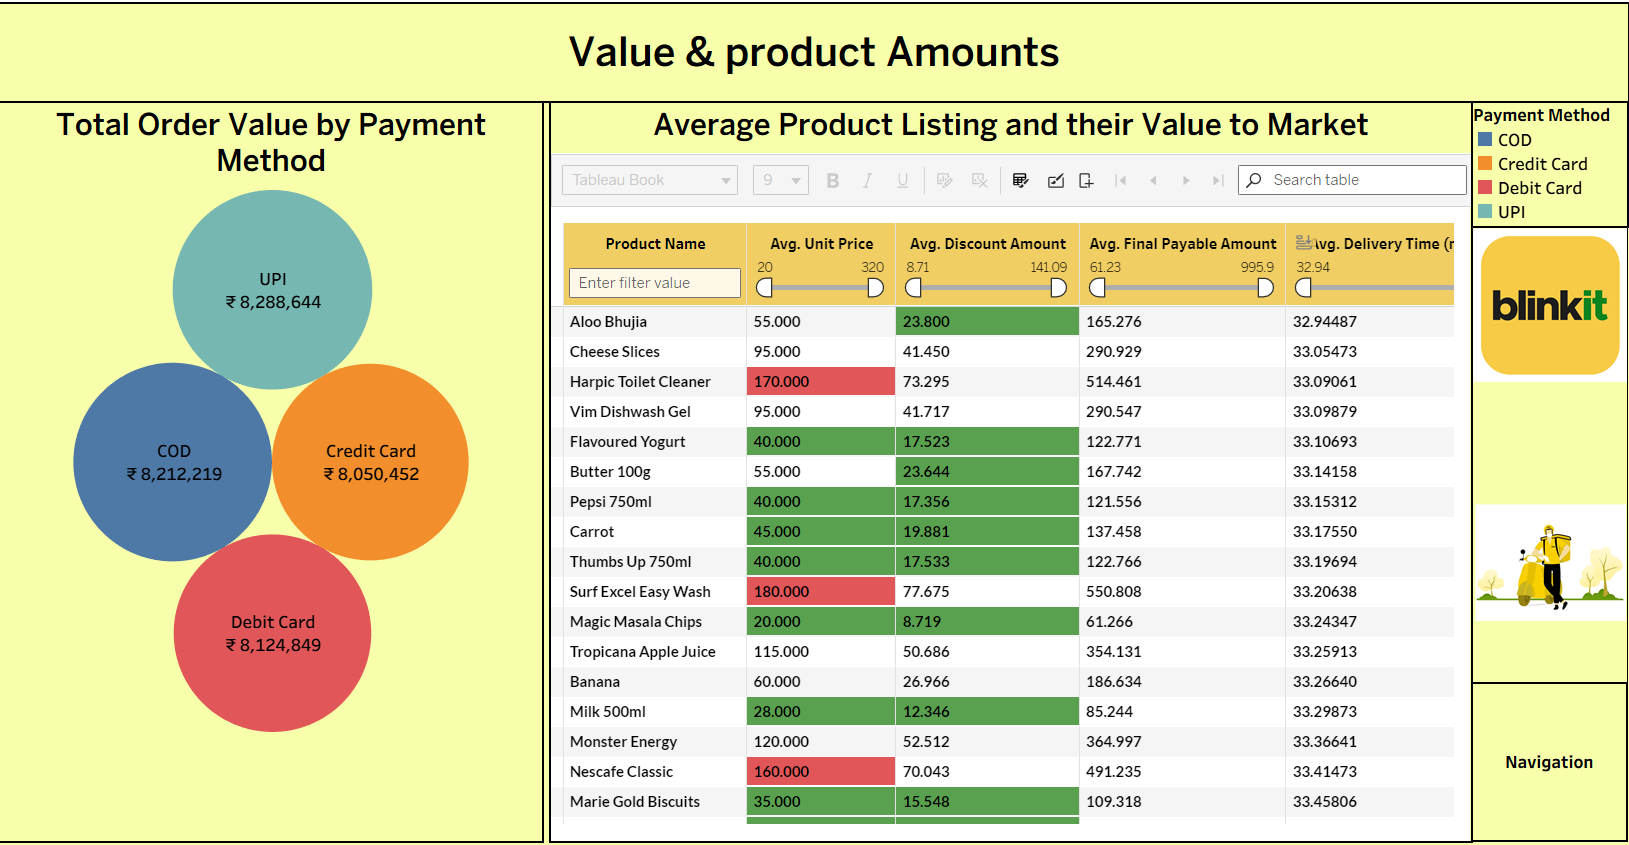

The dashboard page shown, as its layout file describes it:
{"tool":"tableau","page":{"name":"Value & product Amounts","canvas":[1000,1000],"units":"permille","ordinal":4},"visuals":[{"type":"text","box":[6.1,4.7,989.1,117.4]},{"type":"worksheet","title":"Order Value by Payment Method","mark":"Circle","box":[6.1,119.8,330.9,862.8]},{"type":"worksheet","title":"Average Product Listing","box":[340,119.8,560,862.8]},{"type":"legend","title":"Order Value by Payment Method","param":"[federated.1uscovc1tqehue10v8pua1d7i4ou].[none:Payment Method:nk]","box":[898.8,119.8,95.8,147.7]},{"type":"image","param":"Image/image.png","box":[899.4,266.3,94.5,715.1]},{"type":"image","param":"Image/image2.jpg","box":[901.2,588.4,91.5,180.2]},{"type":"dashboard-object","box":[898.8,795.4,95.2,186.1]}]}

Visuals, with their boxes on the dashboard's canvas, which has no fixed pixel size, in thousandths of its width and height (x1, y1, x2, y2). These are canvas units, not pixel positions in the 1629x845 screenshot, which may show the page scaled, cropped or inside an application window:
text: {"x1": 6, "y1": 5, "x2": 995, "y2": 122}
"Order Value by Payment Method" worksheet (Circle marks): {"x1": 6, "y1": 120, "x2": 337, "y2": 983}
"Average Product Listing" worksheet: {"x1": 340, "y1": 120, "x2": 900, "y2": 983}
"Order Value by Payment Method" legend: {"x1": 899, "y1": 120, "x2": 995, "y2": 268}
image: {"x1": 899, "y1": 266, "x2": 994, "y2": 981}
image: {"x1": 901, "y1": 588, "x2": 993, "y2": 769}
dashboard-object: {"x1": 899, "y1": 795, "x2": 994, "y2": 982}
